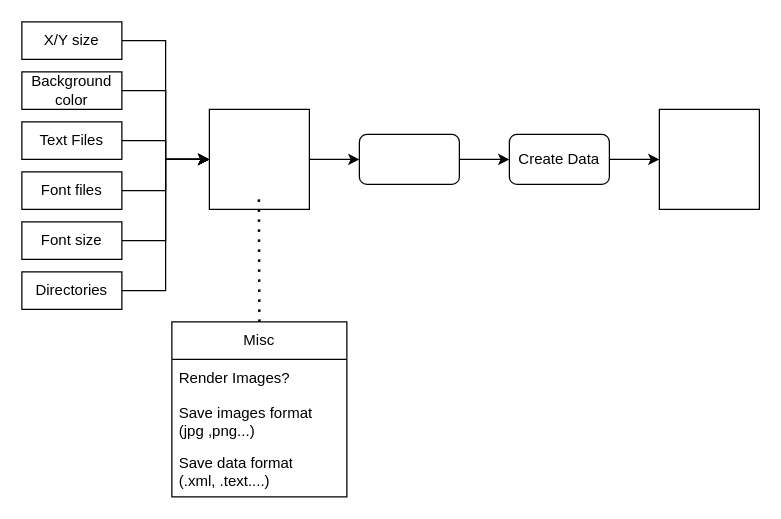
This 781x519 diagram has some shape labels left out. The shapes that lost their labels are listed below. From the top down, each one's centre as x and y in pixels, then its label:
At point 258,158: "Input Data".
At point 408,158: "Check directories".
At point 708,158: "Output Data".
